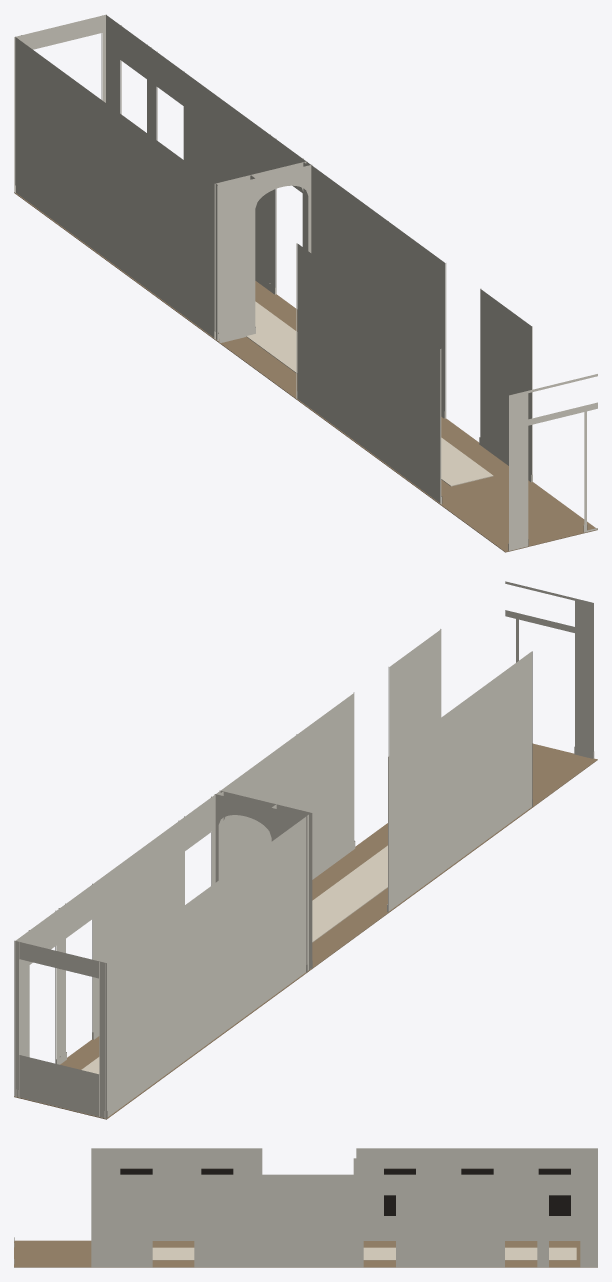
File: corridor-2.glb
The picture shows the model from 3 angles, top to bottom: view 1: azimuth 30°, elevation 25°; view 2: azimuth 150°, elevation 25°; view 3: azimuth 270°, elevation 25°; orthographic projection. The views are drawn at different scales.
Visible parts, largest first — view 1: DESIGN | corridor removable wall finish, DESIGN | corridor floor finish, DESIGN | Quiet hall runner; view 2: DESIGN | corridor removable wall finish, DESIGN | corridor floor finish, DESIGN | Quiet hall runner; view 3: DESIGN | corridor removable wall finish, DESIGN | corridor floor finish, DESIGN | Quiet hall runner, DESIGN | Shallow developed wall field.002, DESIGN | Shallow developed wall field, DESIGN | Shallow developed wall field.001, DESIGN | Shallow developed wall field.003, DESIGN | Shallow developed wall field.004.
Boxes of the visible parts, box(x1,y1,x2,y2) form: DESIGN | corridor removable wall finish: box(14, 14, 597, 550); DESIGN | corridor floor finish: box(14, 192, 597, 552); DESIGN | Quiet hall runner: box(246, 301, 493, 486); DESIGN | corridor removable wall finish: box(14, 581, 594, 1118); DESIGN | corridor floor finish: box(14, 743, 597, 1119); DESIGN | Quiet hall runner: box(81, 845, 387, 1074); DESIGN | corridor removable wall finish: box(14, 1148, 597, 1267); DESIGN | corridor floor finish: box(14, 1240, 597, 1267); DESIGN | Quiet hall runner: box(152, 1247, 576, 1260); DESIGN | Shallow developed wall field.002: box(538, 1168, 570, 1215); DESIGN | Shallow developed wall field: box(384, 1168, 415, 1215); DESIGN | Shallow developed wall field.001: box(461, 1168, 493, 1174); DESIGN | Shallow developed wall field.003: box(120, 1168, 152, 1174); DESIGN | Shallow developed wall field.004: box(201, 1168, 233, 1174).
Bounding box in the file's own units: 1.7 × 2.74 × 15.63.
